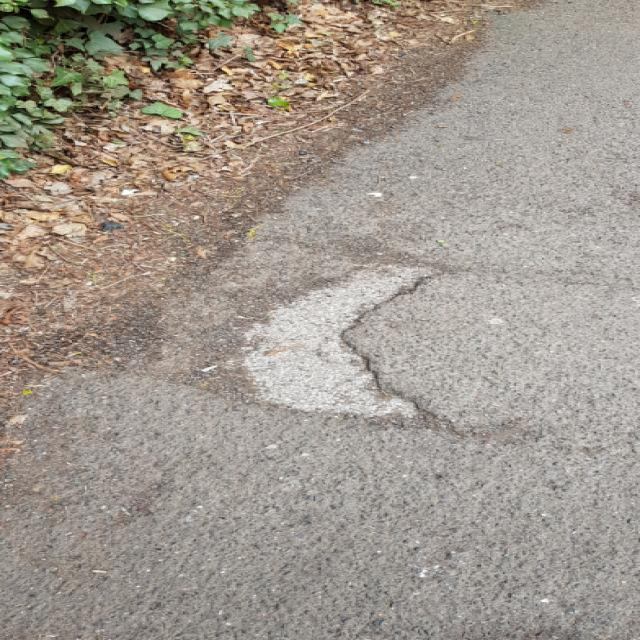pothole: (224, 258, 467, 432)
